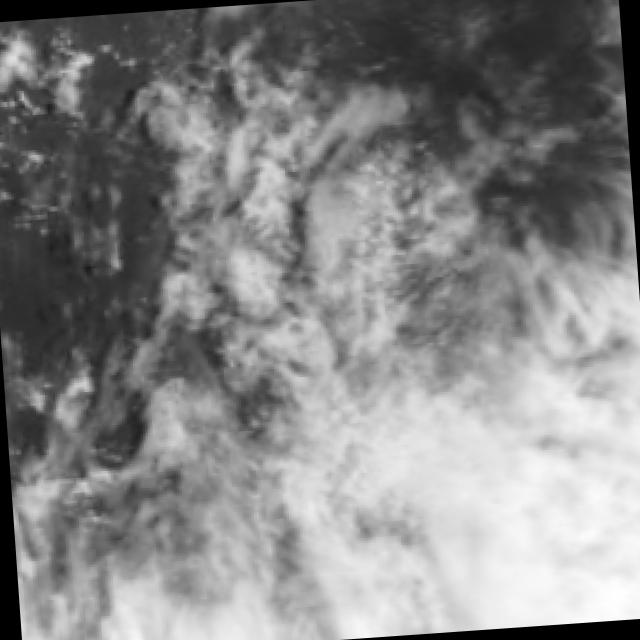CB: (383, 426, 640, 635)
